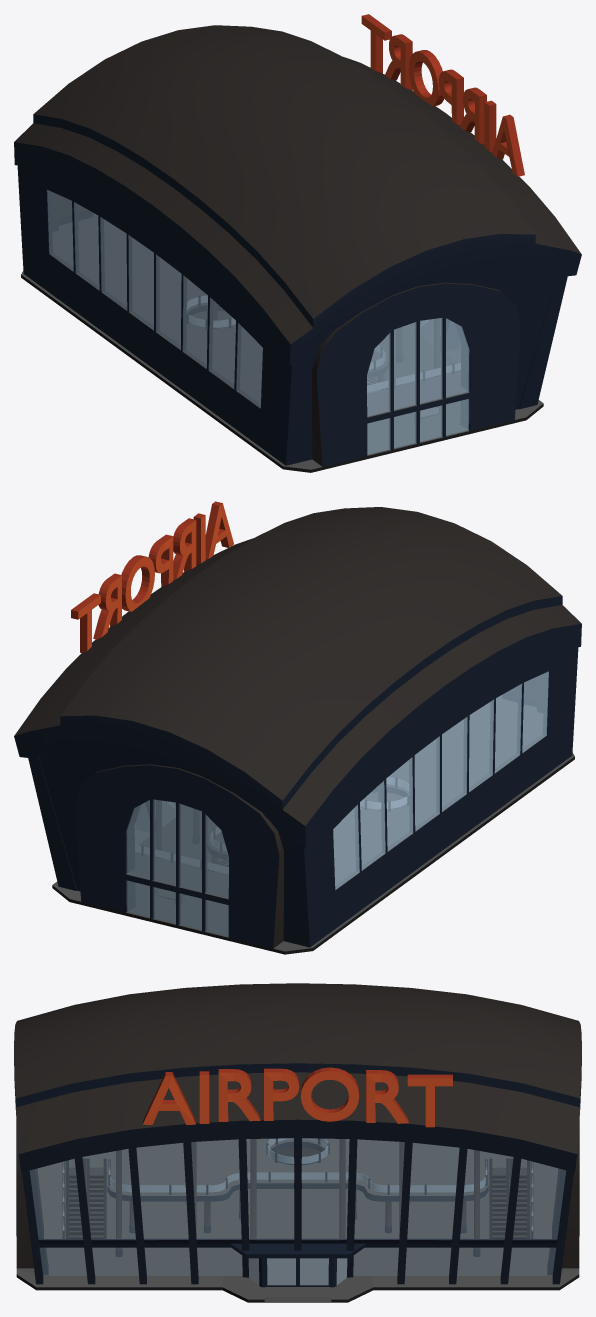
Rendered from airportbase.glb.
3 renders of one model, top to bottom at view 1: azimuth 30°, elevation 25°; view 2: azimuth 150°, elevation 25°; view 3: azimuth 270°, elevation 25°, orthographic.
Visible parts, largest first — view 1: 07.Modulo1_AIRPORT_0; view 2: 07.Modulo1_AIRPORT_0; view 3: 07.Modulo1_AIRPORT_0.
Part boxes in pixels (x1,y1,x2,y2): 07.Modulo1_AIRPORT_0: (14,14,581,472); 07.Modulo1_AIRPORT_0: (14,501,581,954); 07.Modulo1_AIRPORT_0: (14,983,581,1302).
Size of the model in its own units: 42.2 by 32.42 by 70.62.
Materials: 1 (1 with a texture image).
